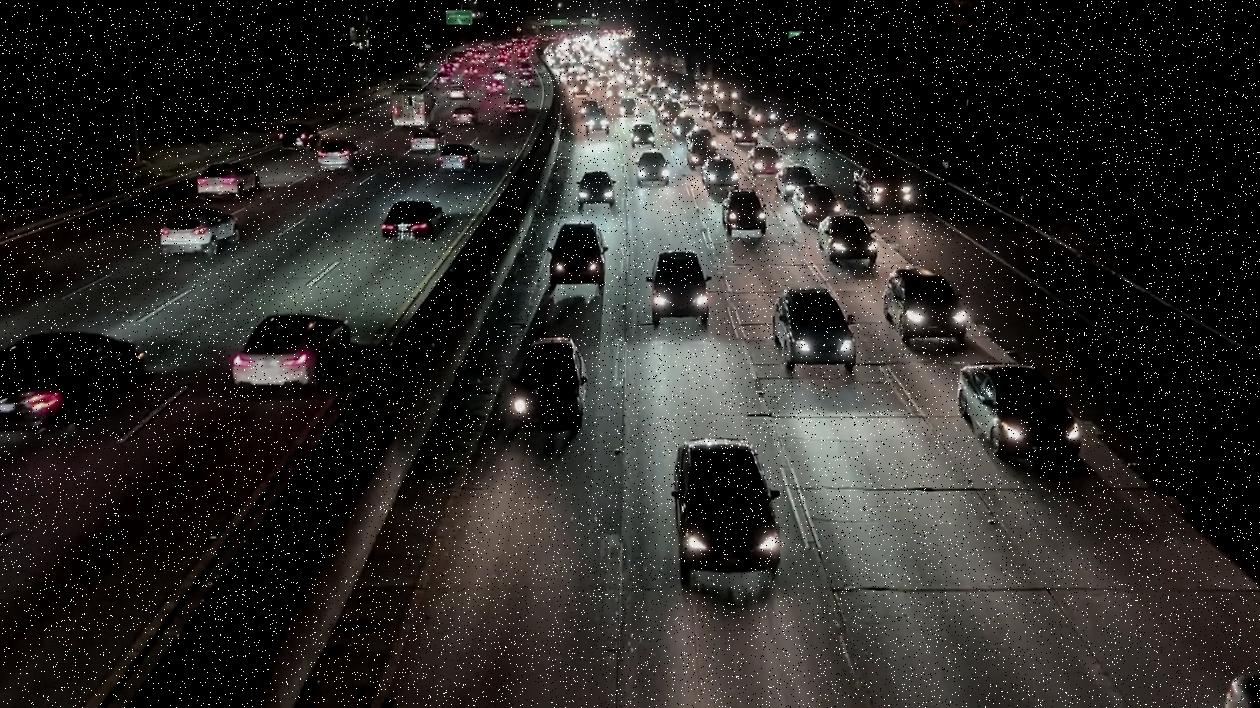car: (645, 431, 796, 580), (944, 360, 1079, 477), (0, 330, 136, 435), (228, 313, 354, 391), (496, 337, 594, 435), (881, 265, 972, 350), (773, 286, 856, 372), (642, 251, 709, 322), (157, 214, 243, 259), (547, 226, 607, 283), (846, 166, 918, 212), (817, 217, 880, 269), (713, 191, 780, 232), (194, 163, 262, 202), (381, 202, 445, 241), (572, 169, 616, 212), (271, 119, 318, 159), (628, 149, 673, 189), (690, 157, 742, 190), (317, 137, 362, 170), (407, 126, 449, 158), (792, 184, 833, 216), (780, 166, 815, 203), (437, 142, 475, 172), (745, 144, 788, 170), (447, 104, 484, 129), (625, 123, 655, 146), (618, 96, 643, 120), (505, 94, 532, 114)
truck: (389, 84, 440, 129)
